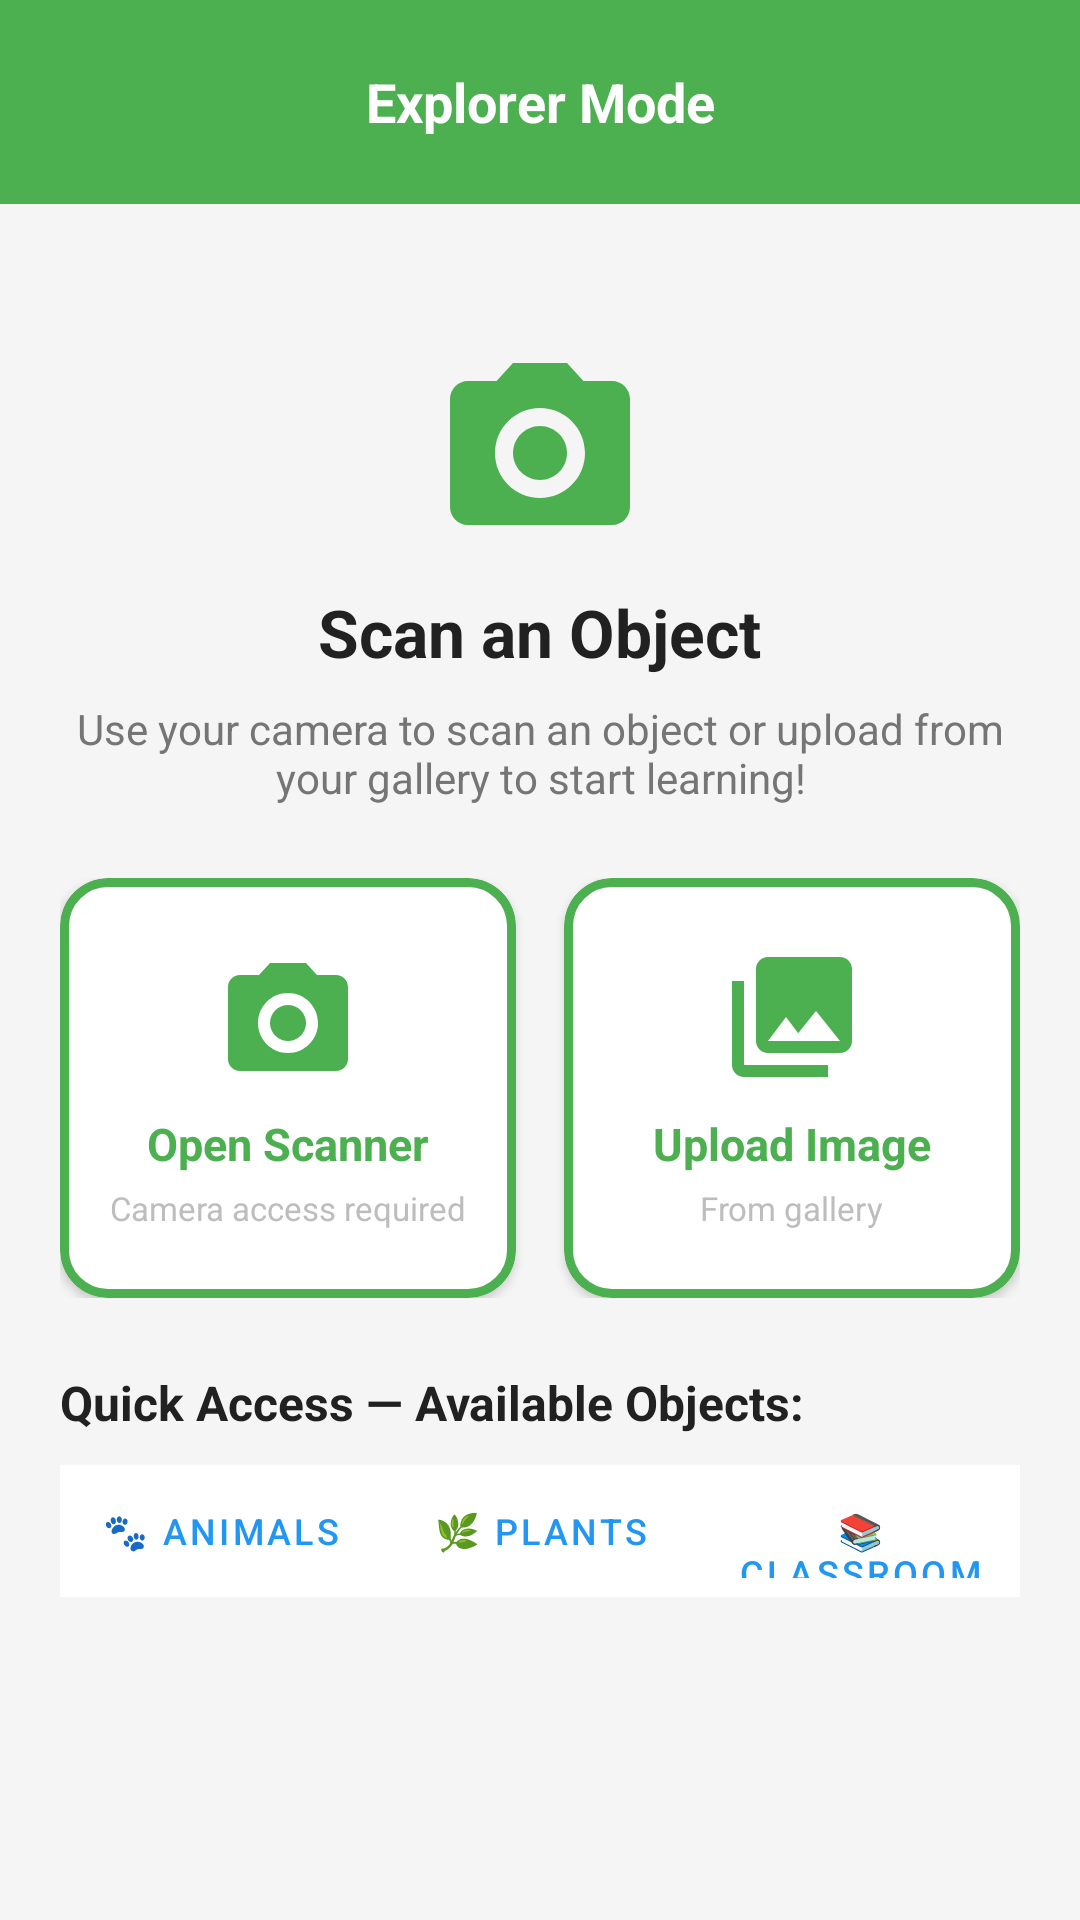

Screen size 1080 x 1920. Icon name, then its center in pixels as point (x, y):
photo library: point (792, 1017)
